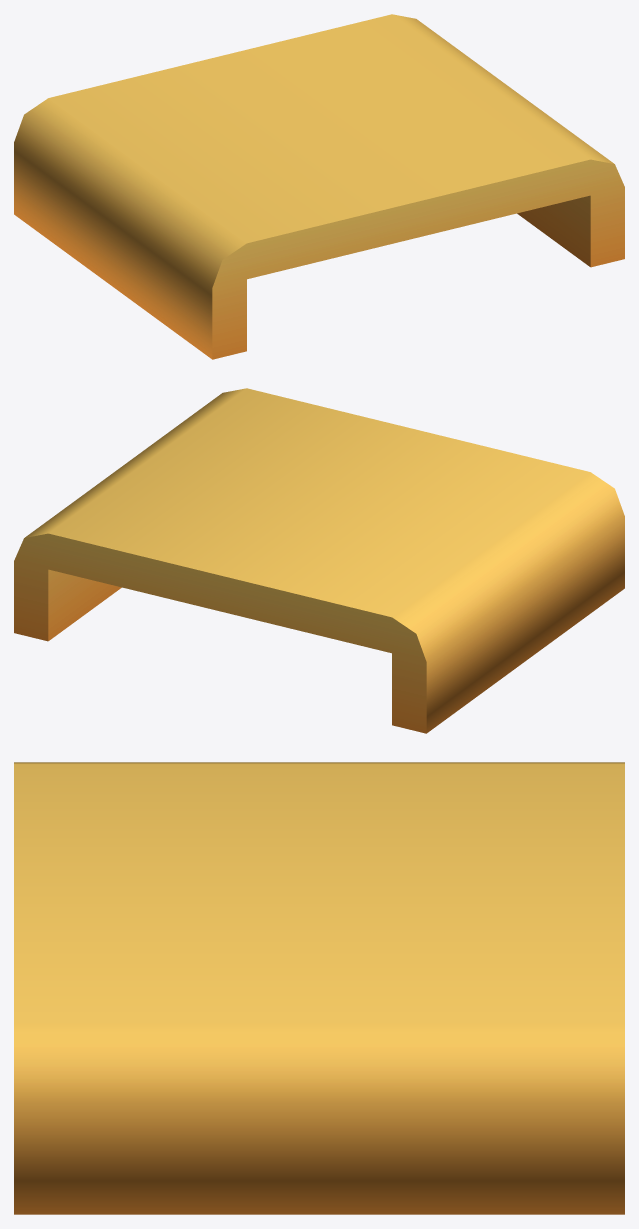
The model's file is kenney-space-station-bed-single-cover.glb.
3 renders of one model, top to bottom at view 1: azimuth 30°, elevation 25°; view 2: azimuth 150°, elevation 25°; view 3: azimuth 270°, elevation 25°, orthographic. The views are drawn at different scales.
Visible parts, largest first — view 1: bed-single-cover; view 2: bed-single-cover; view 3: bed-single-cover.
Part boxes in pixels (x1=…): bed-single-cover: x1=14, y1=14, x2=624, y2=359; bed-single-cover: x1=14, y1=388, x2=624, y2=733; bed-single-cover: x1=14, y1=762, x2=624, y2=1214.
Size of the model in its own units: 0.6 by 0.15 by 0.5.
Materials: 1 (1 with a texture image).
